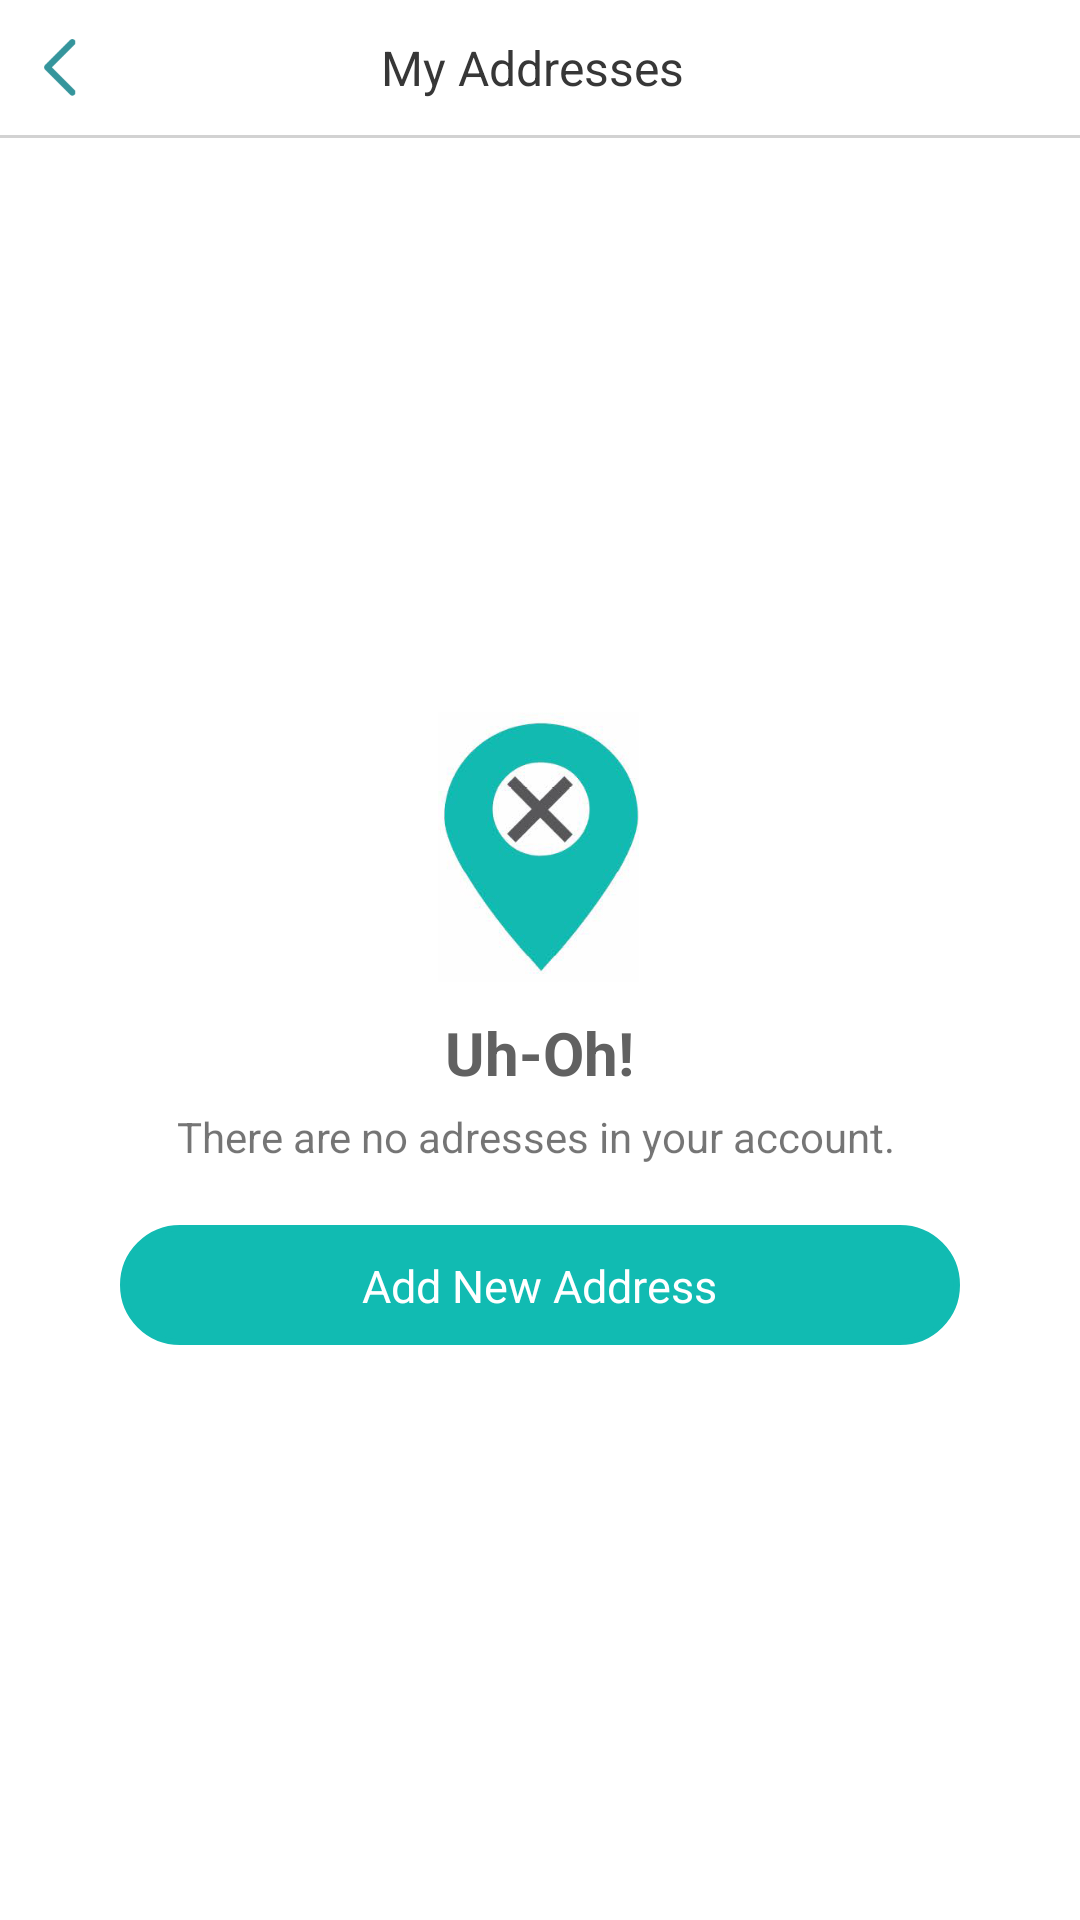

Where icons sit on this 1080px×1920px app screen, as box(x1, y1, x2, y2):
back: box(44, 39, 76, 96)
no address: box(444, 722, 639, 974)
